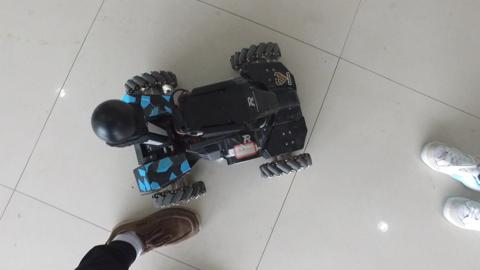chariot: (84, 44, 293, 208)
